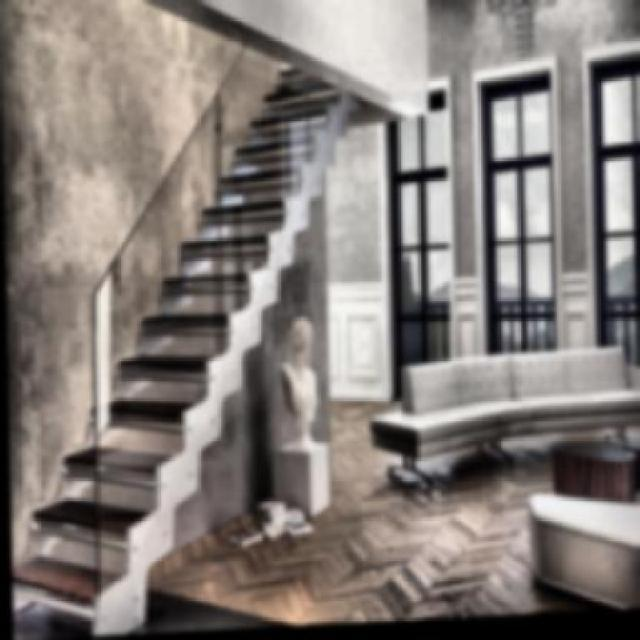stair: (4, 280, 210, 638)
